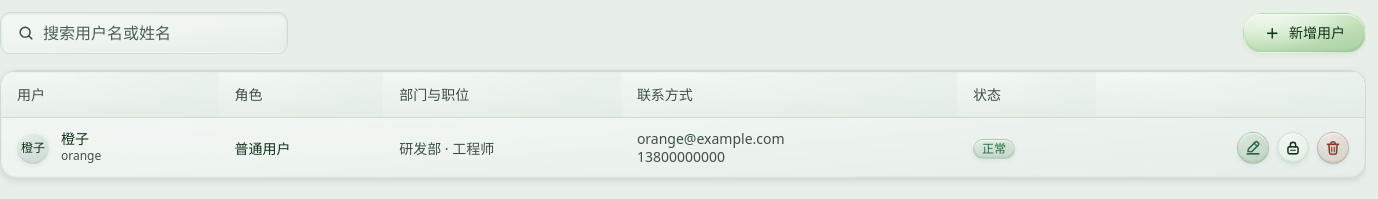
UserManagement search › clears the applied server-side keyword when SearchField is cleared
This screenshot has width=1378, height=199.
Type "orange" into the search field labelled "搜索用户".
click(157, 33); type("orange")  # box 43,13 -> 271,53
Then press Enter
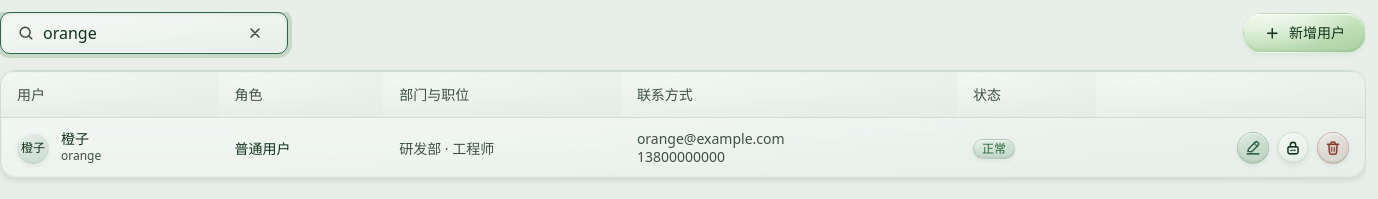
Click the button named "清空搜索".
click(255, 33)  # box 239,17 -> 271,49
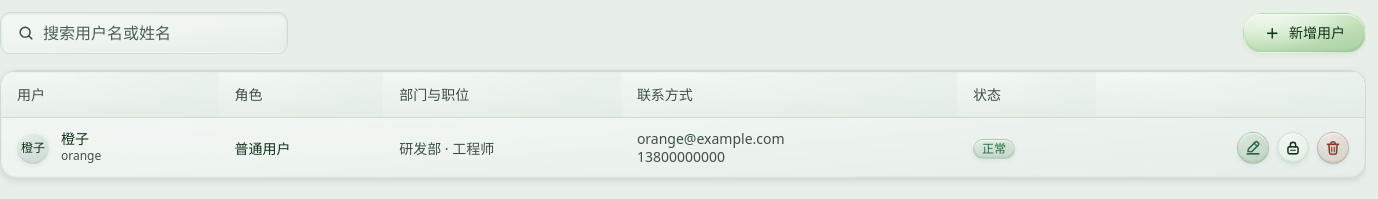
Check: the search field labelled "搜索用户" is empty, box 43,13 -> 271,53
